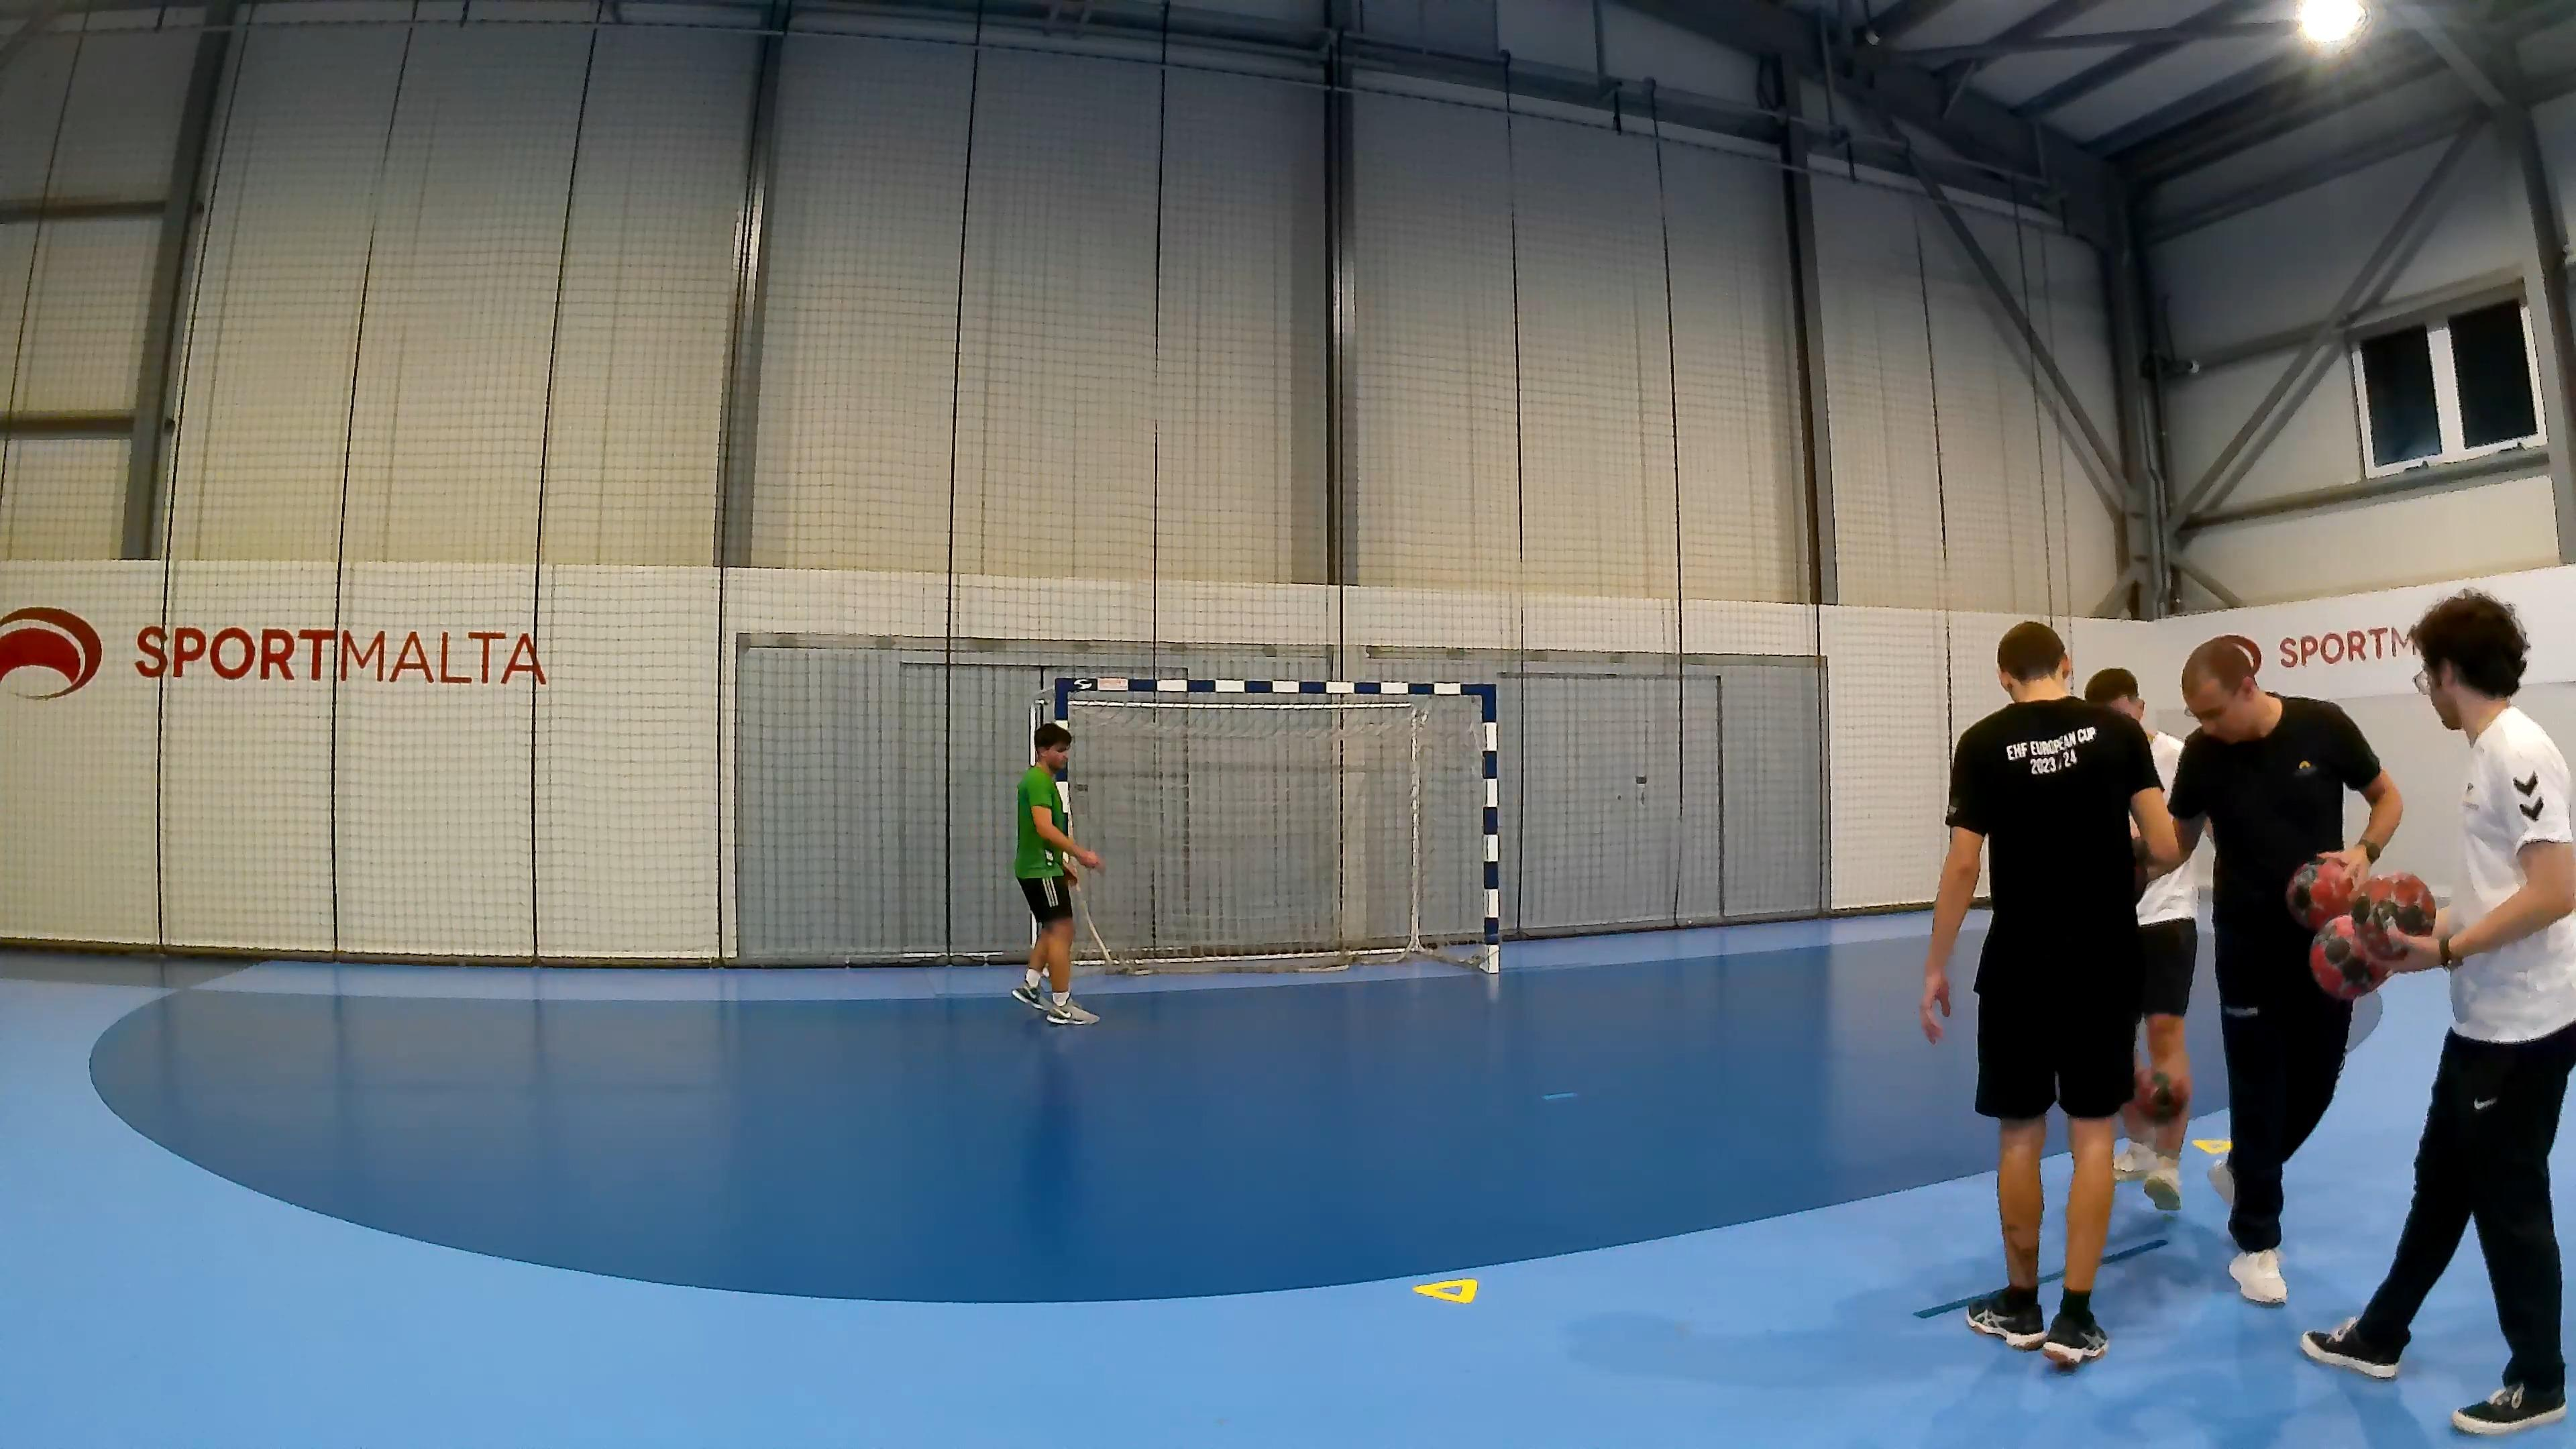handball: (2284, 855, 2436, 1001), (2348, 869, 2436, 947), (2284, 856, 2357, 931)
